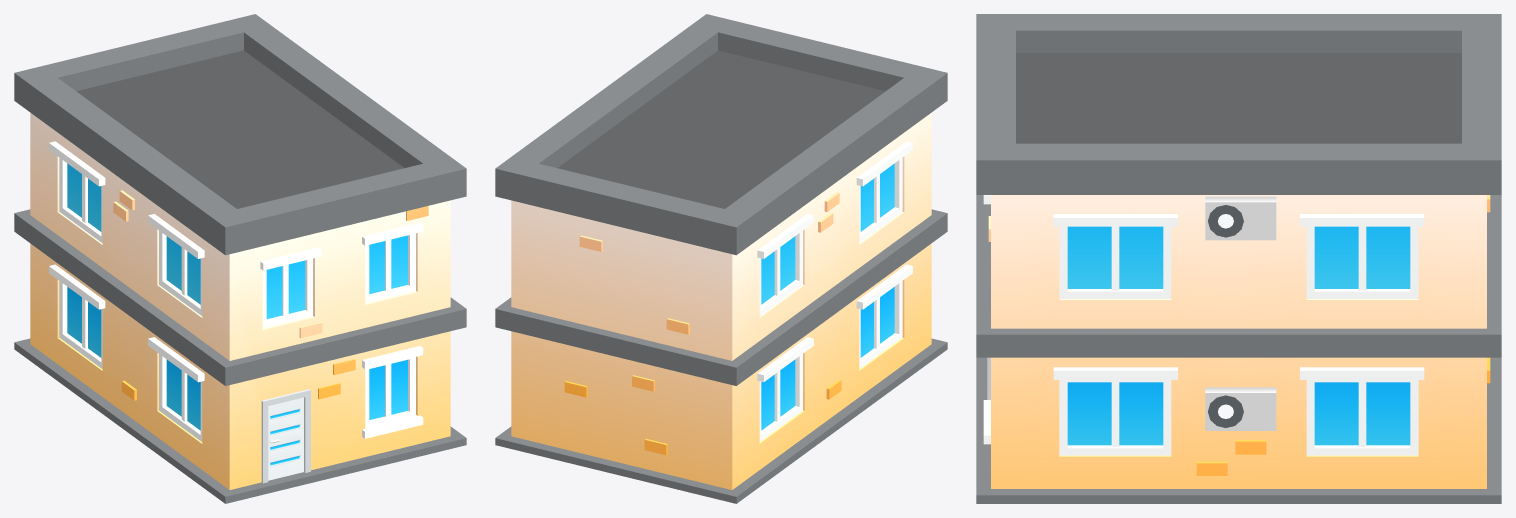
File: Building_Living_08.glb
3 views of the same model, side by side, from view 1: azimuth 30°, elevation 25°; view 2: azimuth 150°, elevation 25°; view 3: azimuth 270°, elevation 25° (orthographic). The views are drawn at different scales.
Parts seen in each view (by area): view 1: Building_Living_08; view 2: Building_Living_08; view 3: Building_Living_08.
Boxes of the visible parts, box(x1,y1,x2,y2) form: Building_Living_08: box(14, 14, 466, 503); Building_Living_08: box(495, 14, 947, 503); Building_Living_08: box(976, 14, 1501, 503).
Bounding box in the file's own units: 7.15 × 7.83 × 10.84.
1 material, 1 textured.
